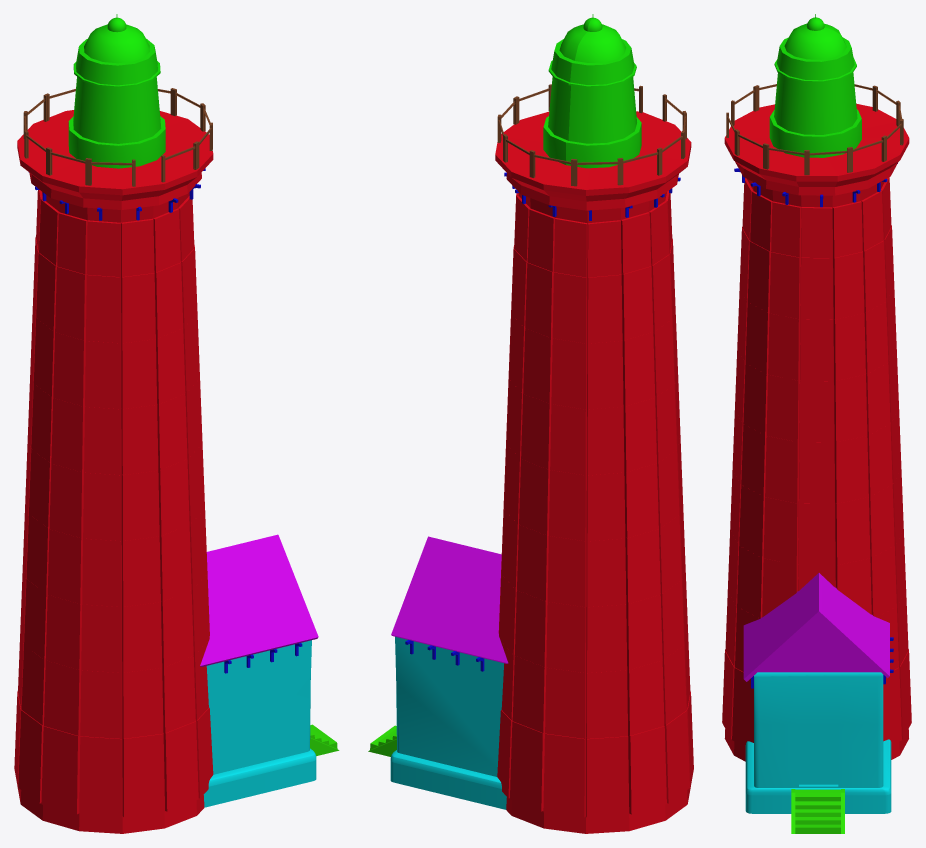
File: Lighthouse.fbx
3 renders of one model, left to right at view 1: azimuth 30°, elevation 25°; view 2: azimuth 150°, elevation 25°; view 3: azimuth 270°, elevation 25°, orthographic. The views are drawn at different scales.
Parts seen in each view (by area): view 1: Cylinder, Cube.013, Cylinder.001, Cube.014; view 2: Cylinder, Cube.013, Cylinder.001, Cube.014; view 3: Cylinder, Cube.013, Cube.014, Cylinder.001, Cube.015.
Part boxes in pixels (x1,y1,x2,y2): Cylinder: (14, 110, 213, 833); Cube.013: (203, 640, 316, 807); Cylinder.001: (68, 14, 165, 168); Cube.014: (200, 534, 318, 666); Cylinder: (495, 111, 693, 833); Cube.013: (390, 636, 506, 809); Cylinder.001: (543, 14, 641, 168); Cube.014: (391, 536, 508, 663); Cylinder: (722, 103, 911, 761); Cube.013: (745, 672, 891, 813); Cube.014: (743, 573, 889, 681); Cylinder.001: (769, 14, 861, 157); Cube.015: (791, 789, 844, 833).
Bounding box in the file's own units: 4146 × 10391 × 2464.
